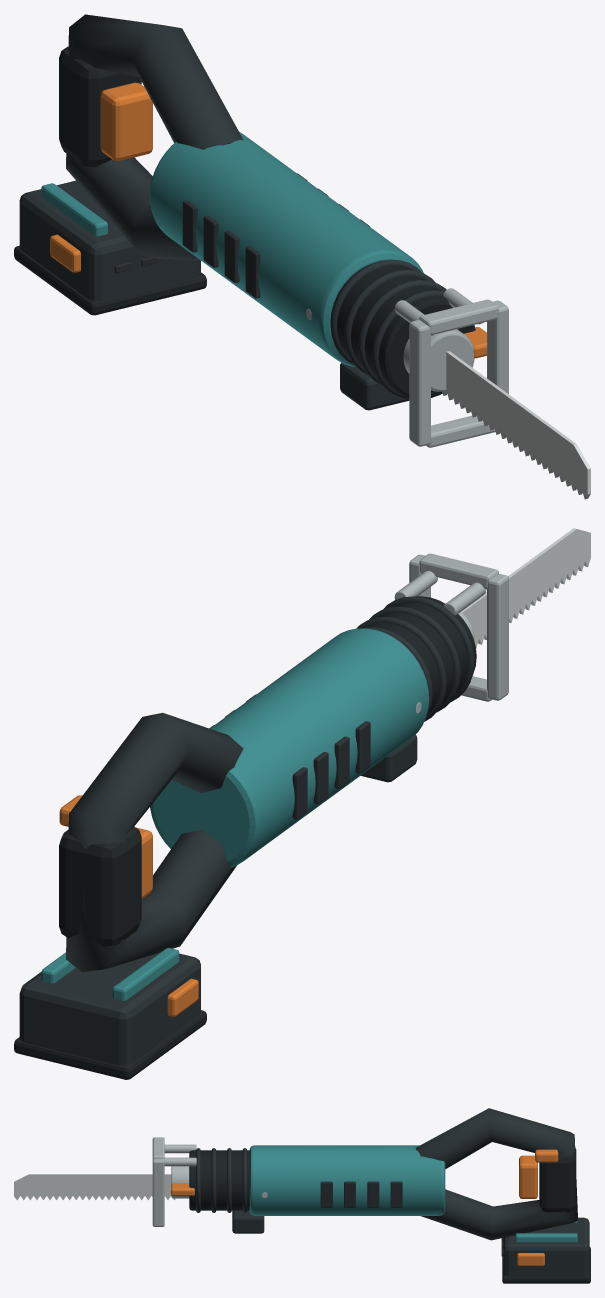
The model's file is city-reciprocating-saw.glb.
The picture shows the model from 3 angles, top to bottom: view 1: azimuth 30°, elevation 25°; view 2: azimuth 150°, elevation 25°; view 3: azimuth 270°, elevation 25°; orthographic projection. The views are drawn at different scales.
Visible parts, largest first — view 1: Assembly | Graphite tool overmold, Assembly | Muted teal molded tool body, Assembly | Soft black grip rubber, Assembly | Satin tool steel, Assembly | Bright cutting metal appearance, Assembly | Unbranded orange controls, Assembly | Dark recess and fasteners; view 2: Assembly | Graphite tool overmold, Assembly | Muted teal molded tool body, Assembly | Soft black grip rubber, Assembly | Satin tool steel, Assembly | Bright cutting metal appearance, Assembly | Dark recess and fasteners, Assembly | Unbranded orange controls; view 3: Assembly | Graphite tool overmold, Assembly | Muted teal molded tool body, Assembly | Soft black grip rubber, Assembly | Bright cutting metal appearance, Assembly | Satin tool steel, Assembly | Unbranded orange controls, Assembly | Dark recess and fasteners.
Boxes of the visible parts, bbox=[...] form: Assembly | Graphite tool overmold: bbox=[19, 14, 446, 410]; Assembly | Muted teal molded tool body: bbox=[41, 131, 423, 366]; Assembly | Soft black grip rubber: bbox=[14, 46, 475, 397]; Assembly | Satin tool steel: bbox=[306, 288, 508, 447]; Assembly | Bright cutting metal appearance: bbox=[442, 351, 590, 499]; Assembly | Unbranded orange controls: bbox=[50, 82, 486, 358]; Assembly | Dark recess and fasteners: bbox=[114, 173, 369, 298]; Assembly | Graphite tool overmold: bbox=[19, 596, 474, 1065]; Assembly | Muted teal molded tool body: bbox=[41, 628, 429, 1000]; Assembly | Soft black grip rubber: bbox=[14, 596, 476, 1079]; Assembly | Satin tool steel: bbox=[394, 553, 508, 713]; Assembly | Bright cutting metal appearance: bbox=[461, 528, 590, 648]; Assembly | Dark recess and fasteners: bbox=[209, 694, 370, 819]; Assembly | Unbranded orange controls: bbox=[59, 795, 198, 1016]; Assembly | Graphite tool overmold: bbox=[196, 1108, 589, 1276]; Assembly | Muted teal molded tool body: bbox=[249, 1145, 577, 1242]; Assembly | Soft black grip rubber: bbox=[189, 1148, 590, 1283]; Assembly | Bright cutting metal appearance: bbox=[14, 1174, 175, 1200]; Assembly | Satin tool steel: bbox=[152, 1137, 267, 1226]; Assembly | Unbranded orange controls: bbox=[171, 1149, 558, 1265]; Assembly | Dark recess and fasteners: bbox=[320, 1181, 503, 1256].
Size of the model in its own units: 0.094 by 0.205 by 0.6695.
